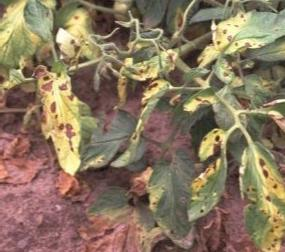Tomato Early blight leaf: (187, 2, 285, 75), (232, 139, 285, 248), (183, 129, 237, 217), (39, 66, 78, 171), (113, 82, 167, 154)
